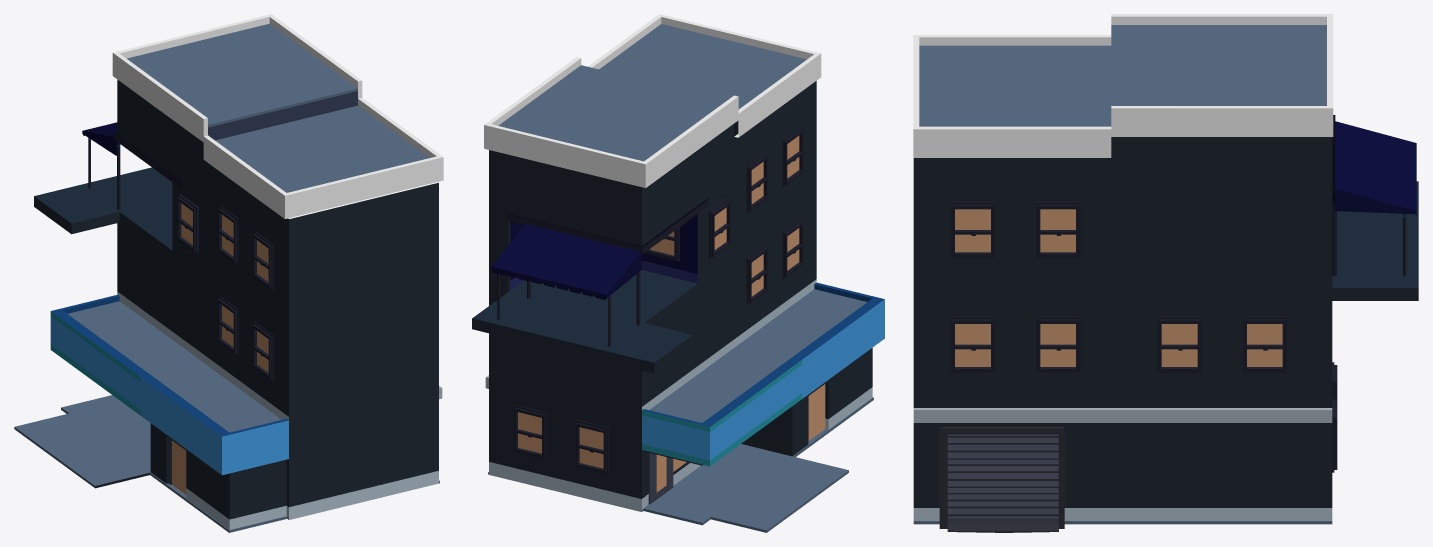
File: Building_CafeSugarCups.fbx
The picture shows the model from 3 angles, left to right: view 1: azimuth 30°, elevation 25°; view 2: azimuth 150°, elevation 25°; view 3: azimuth 270°, elevation 25°; orthographic projection. The views are drawn at different scales.
Visible parts, largest first — view 1: Cube.551, Cube.558, Cube.557; view 2: Cube.558, Cube.551, Cube.557, Cube.556; view 3: Cube.558, Cube.551, Cube.557.
Boxes of the visible parts, x1,y1,x2,y2 form: Cube.551: (141, 97, 443, 532); Cube.558: (14, 14, 362, 488); Cube.557: (82, 122, 120, 209); Cube.558: (472, 57, 848, 532); Cube.551: (588, 14, 884, 456); Cube.557: (491, 223, 641, 346); Cube.556: (648, 453, 673, 504); Cube.558: (1111, 14, 1418, 524); Cube.551: (913, 35, 1111, 532); Cube.557: (1332, 121, 1416, 276).
Bounding box in the file's own units: 843 × 1035 × 1121.
